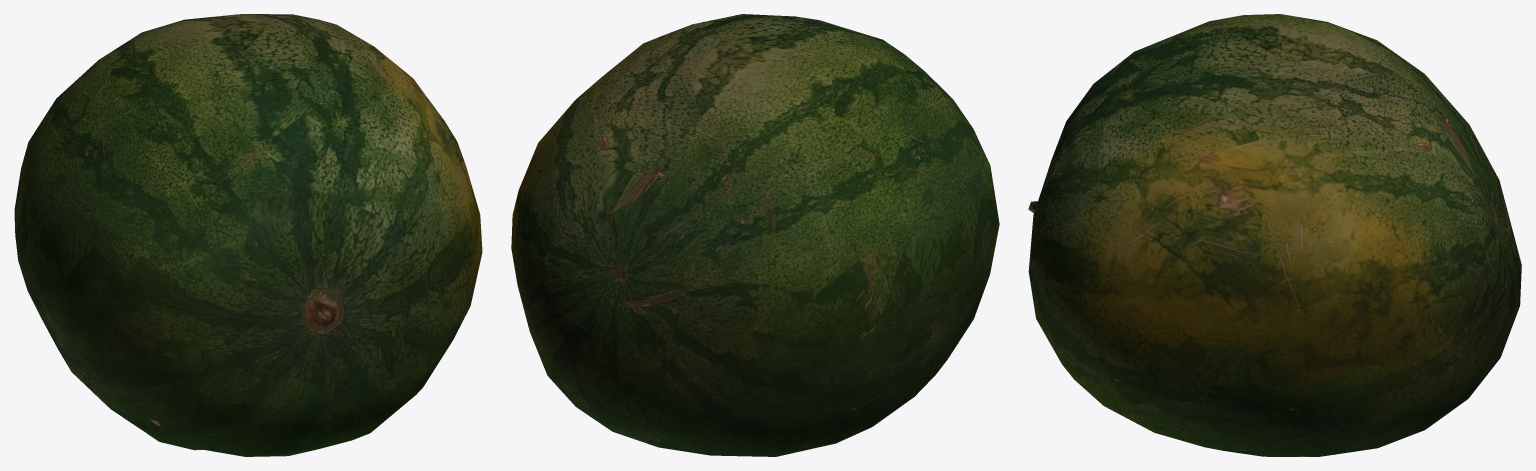
The model's file is Watermelon.fbx.
3 views of the same model, side by side, from view 1: azimuth 30°, elevation 25°; view 2: azimuth 150°, elevation 25°; view 3: azimuth 270°, elevation 25° (orthographic).
Visible parts, largest first — view 1: Watermelon; view 2: Watermelon; view 3: Watermelon.
Part boxes in pixels (box(x1,y1,x2,y2)): Watermelon: box(14, 14, 482, 456); Watermelon: box(511, 14, 999, 456); Watermelon: box(1028, 14, 1521, 456).
Size of the model in its own units: 34.72 by 32.06 by 37.61.
